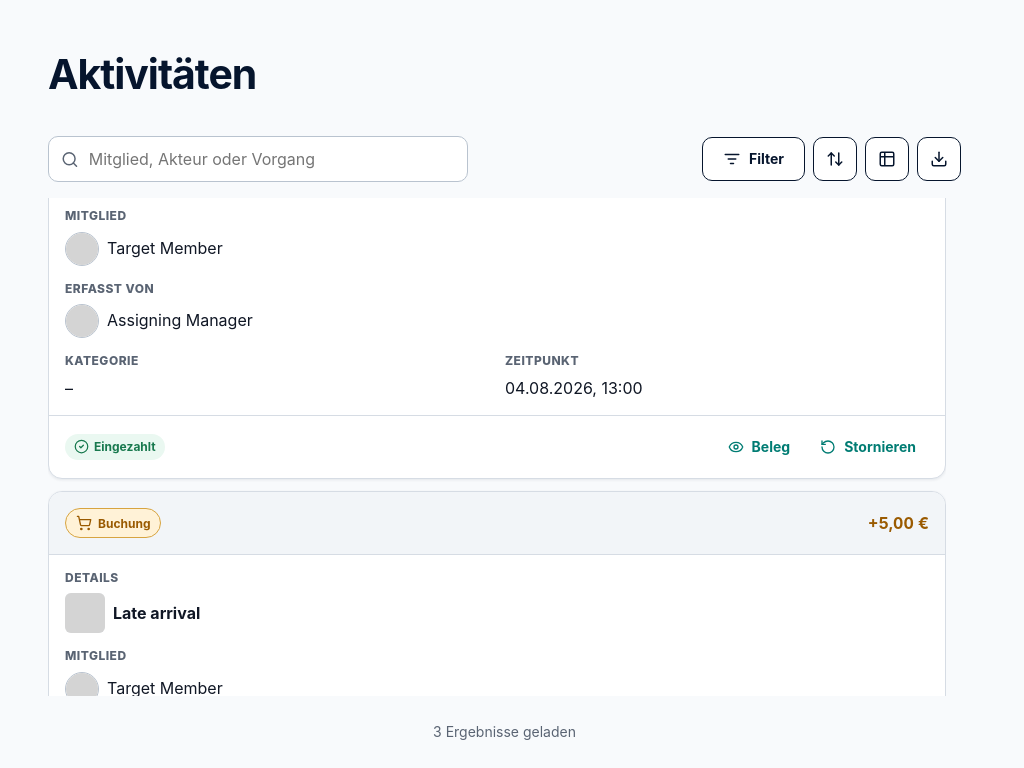
ActivitiesPage unified feed › keeps complete activity content and available row actions in mobile cards
This screenshot has width=1024, height=768.
(page scrolled)
Click the button "Stornieren": [868, 448] box [807, 428, 929, 466]
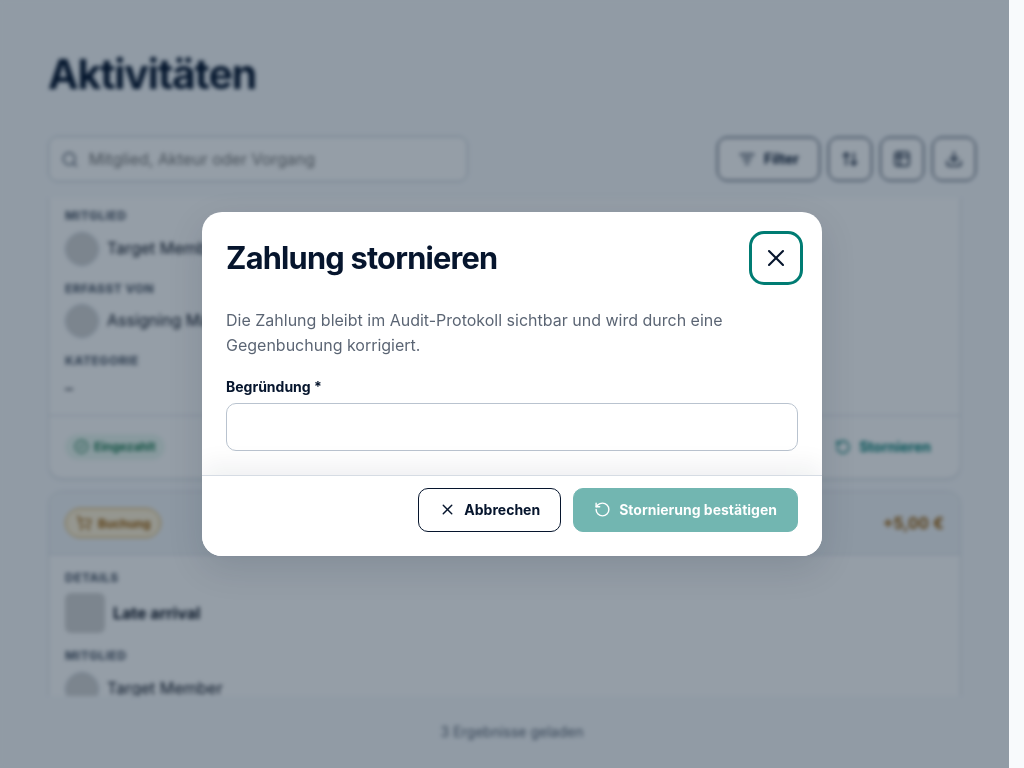
Now the dialog "Zahlung stornieren" is shown, box [202, 212, 822, 556]
